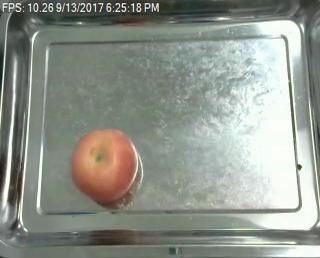apple: (72, 129, 139, 203)
